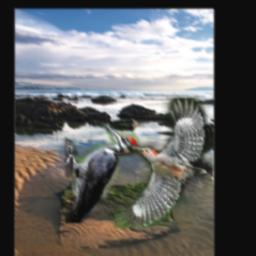Woodpecker: (113, 99, 212, 229), (65, 125, 140, 224)
